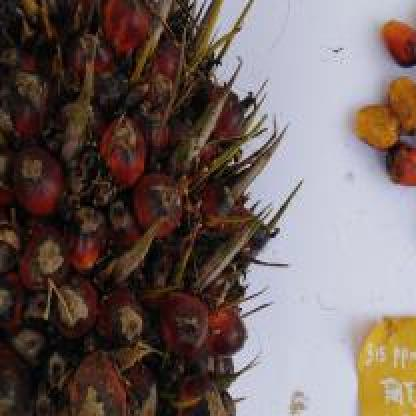underripe: (0, 0, 268, 416)
